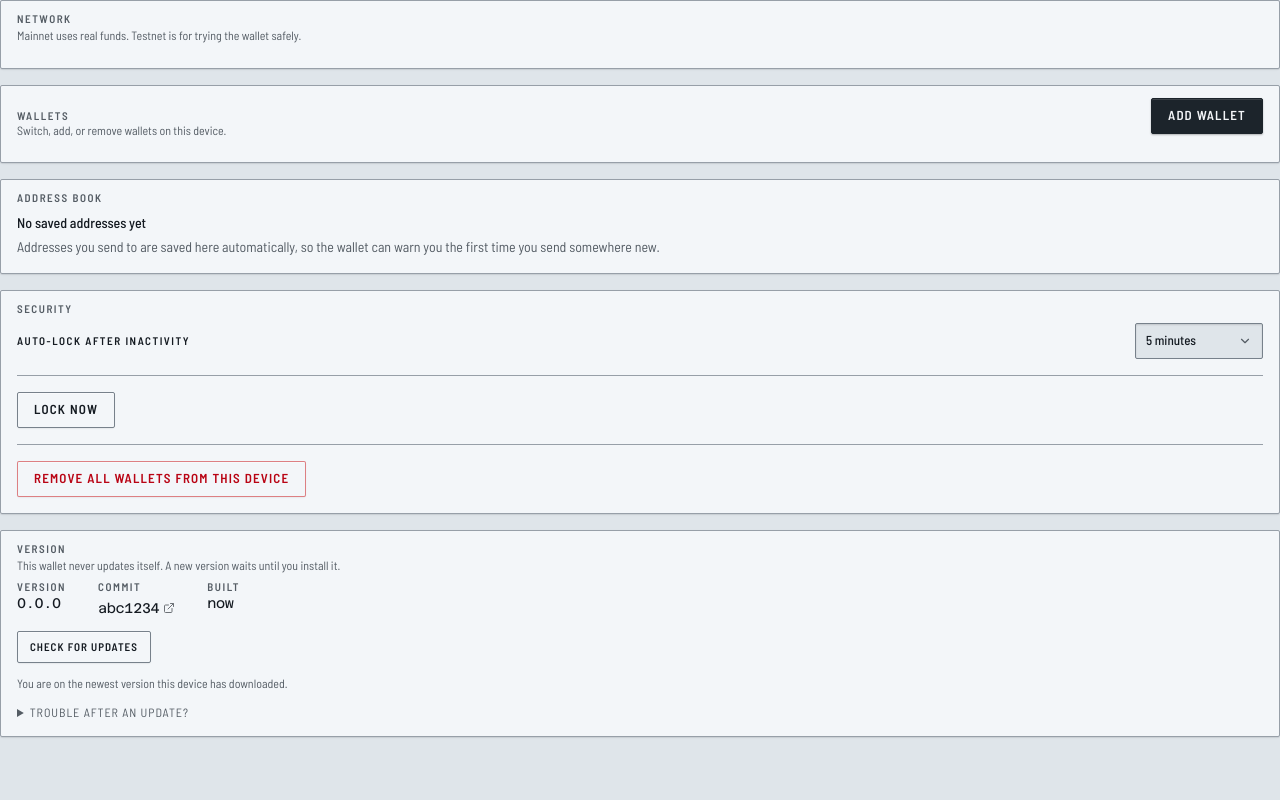
Scenario: Settings: Seed import (Epic 11) › writes nothing when the operator cancels the warning
This screenshot has width=1280, height=800.
Click the button "Add wallet": (1207, 116) [1151,98,1263,134]
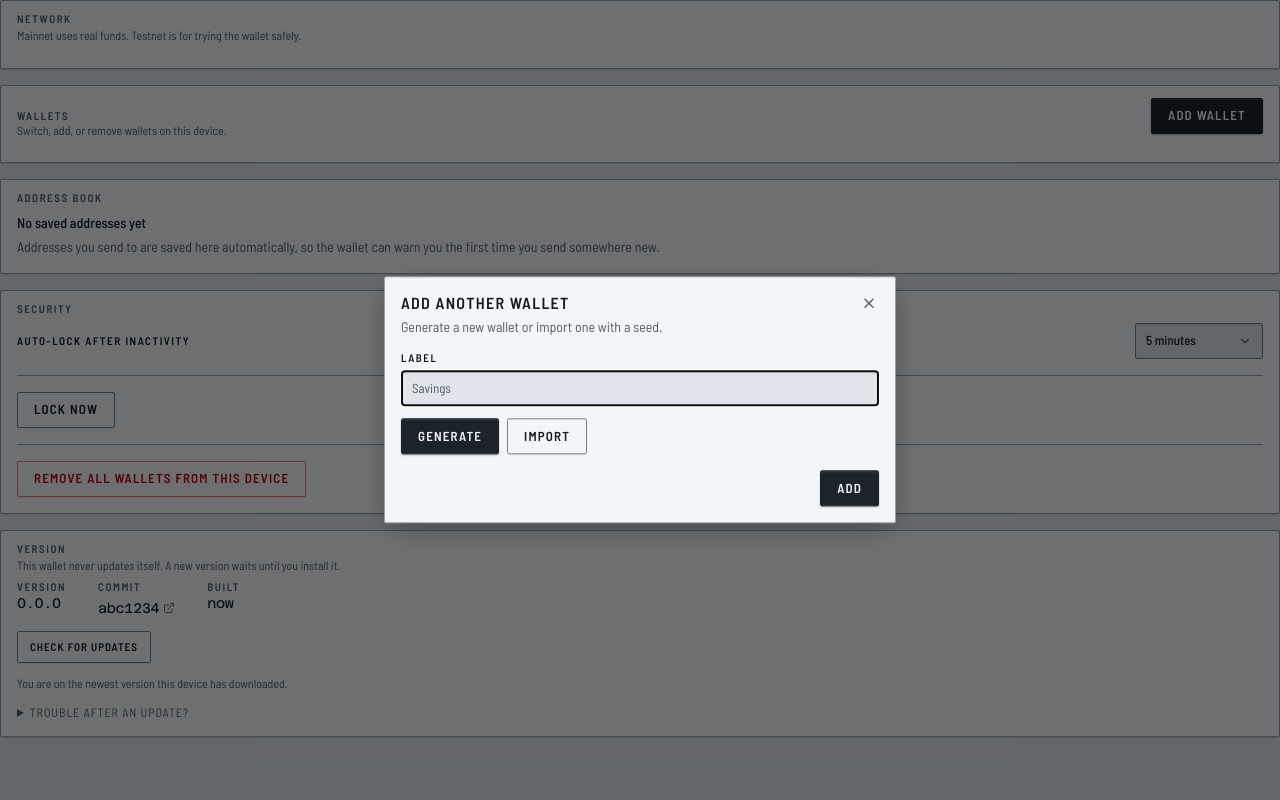
Click the button "Import": (547, 437) [507,419,587,455]
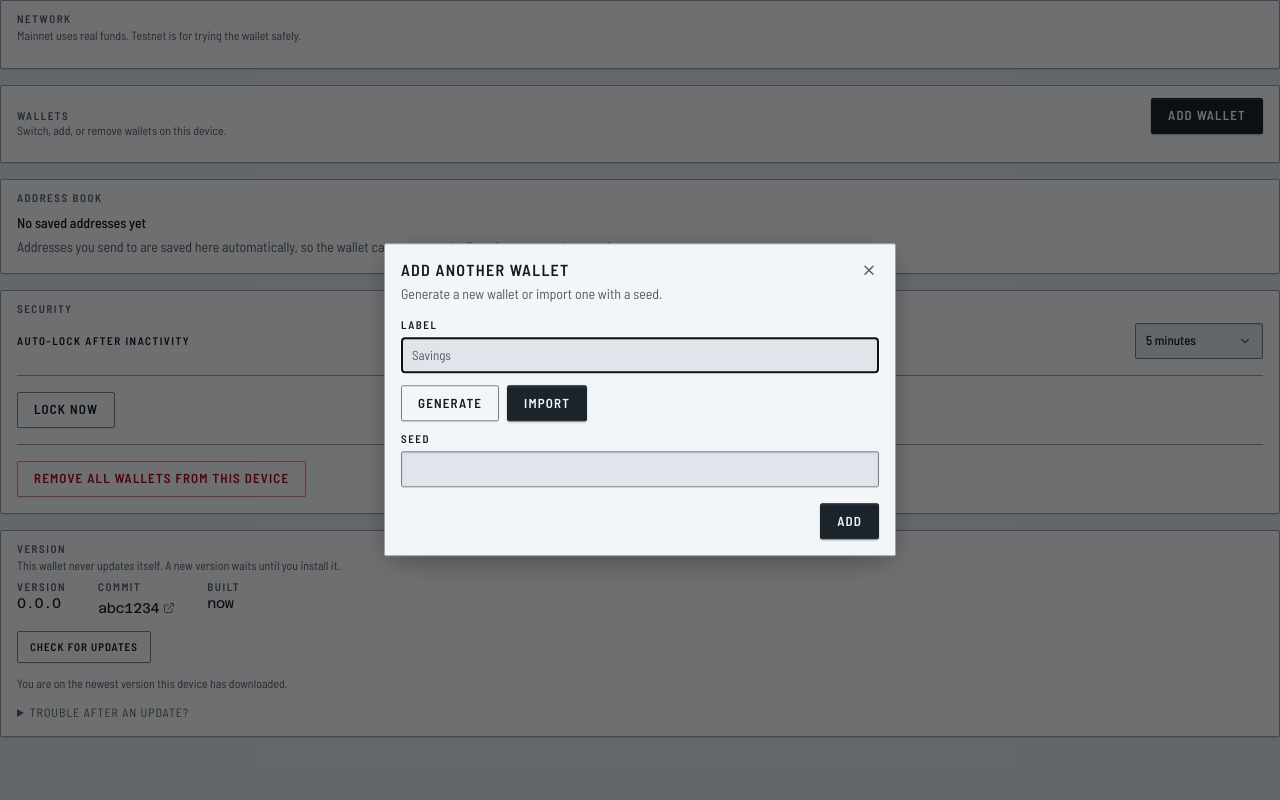
In the password field with id "wseed": (640, 470) [401,452,879,488], type "sEdTM1uX8pu2do5XvTnutH6HsouMaM2"
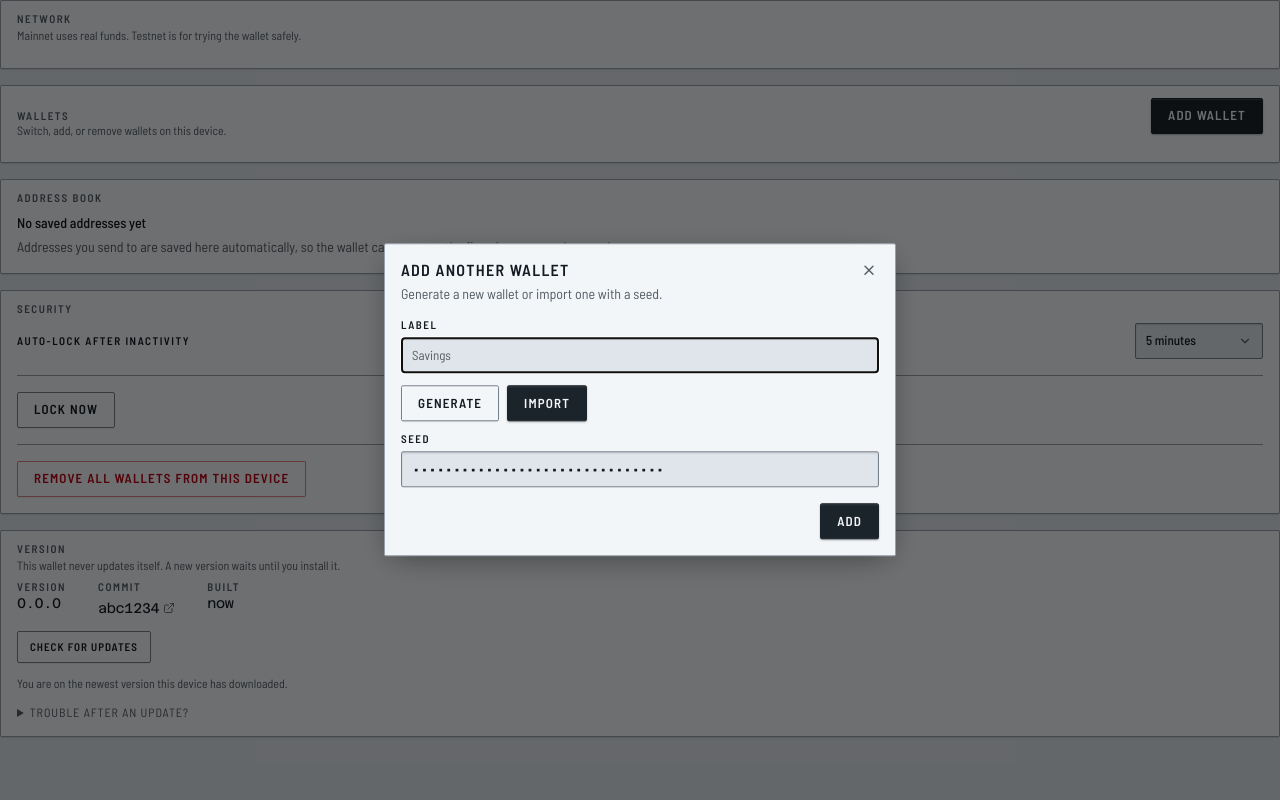
Click the button "Add": (850, 522) [820,504,879,540]
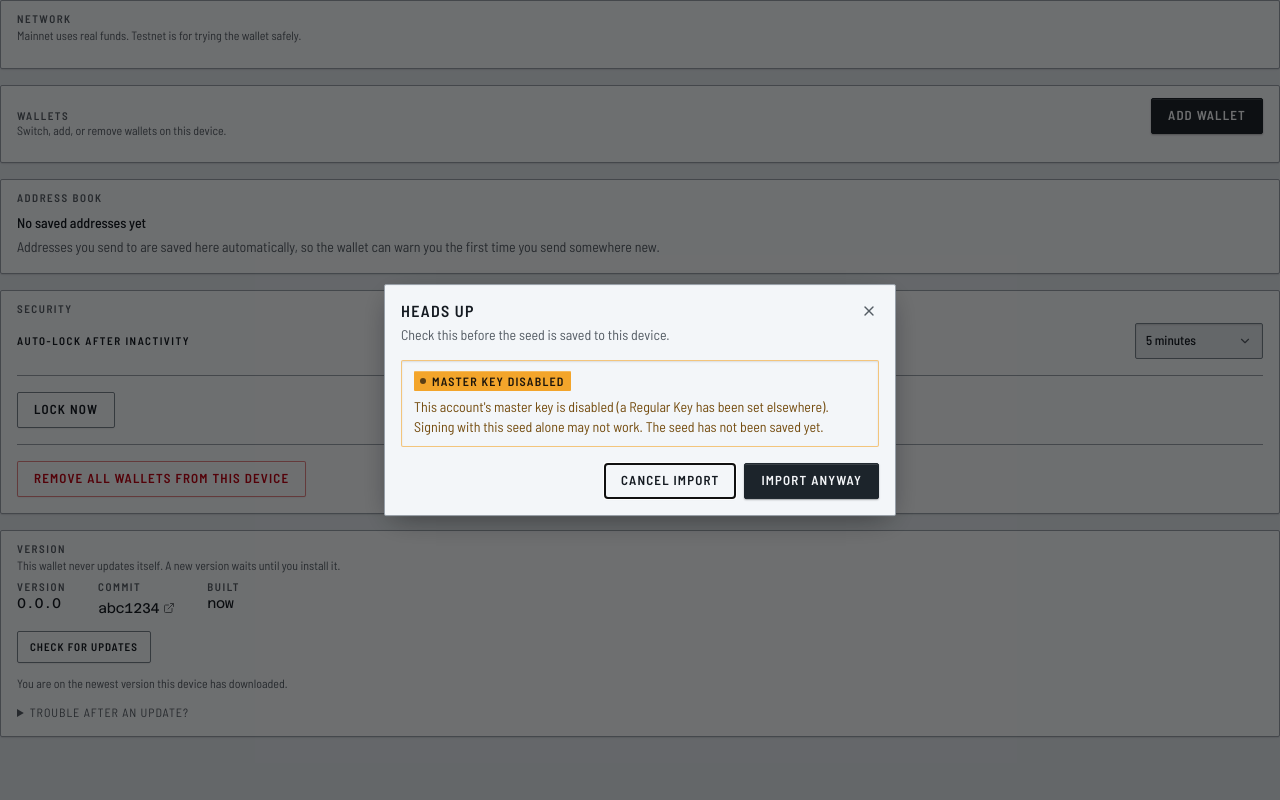
Click the button "Cancel import": (670, 481) [604,463,736,499]
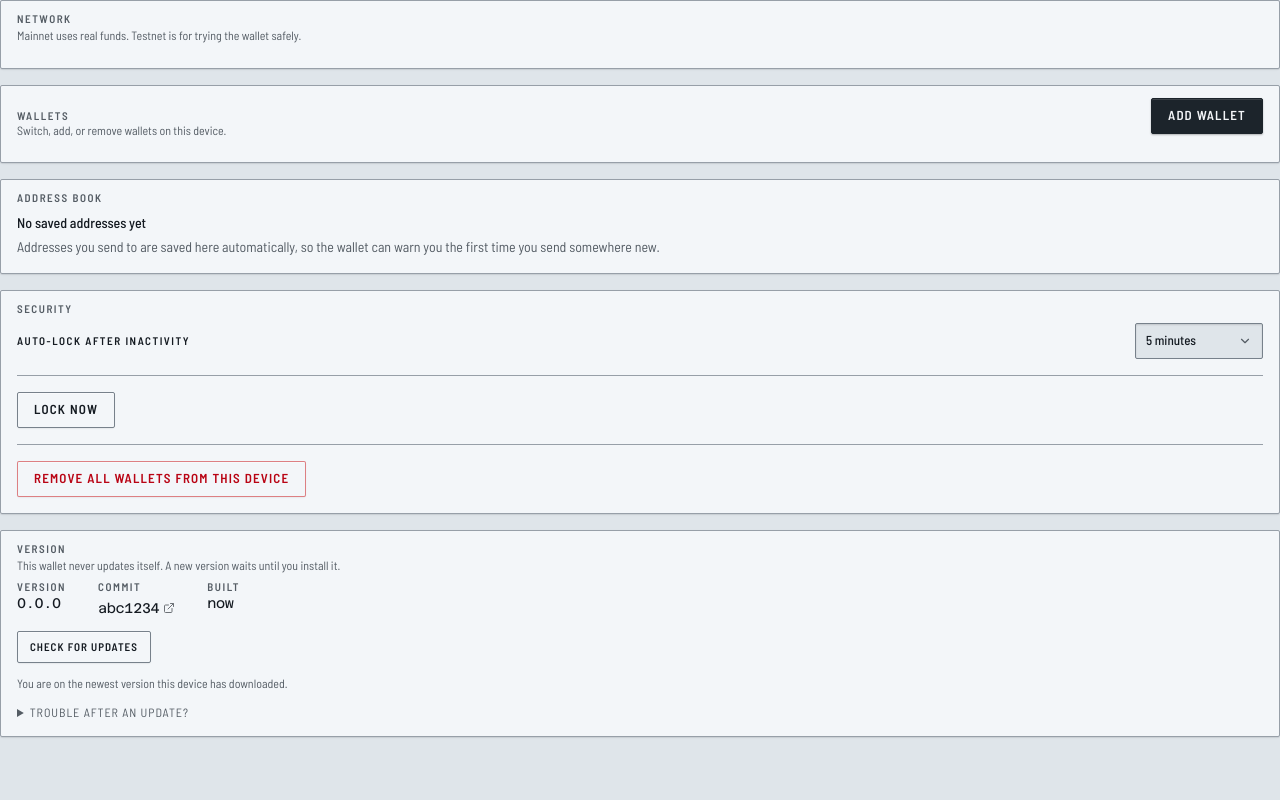
Expected: the text "Master key disabled" is gone
